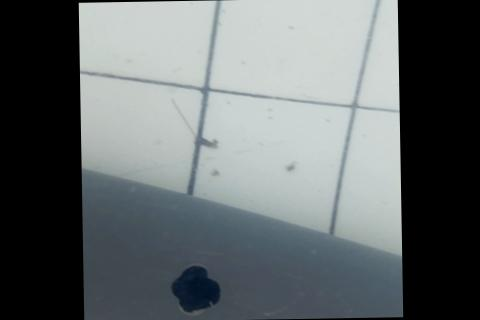kebocoran: (166, 263, 223, 317)
